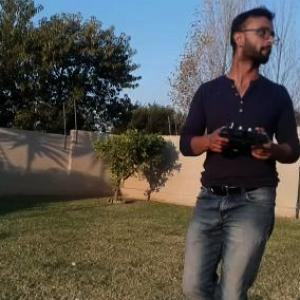follow: (176, 0, 299, 299)
